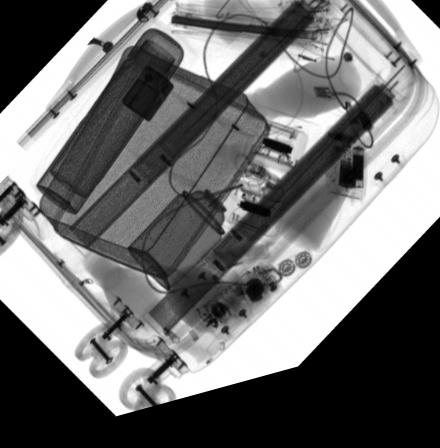Lighter: (121, 73, 173, 129)
Sprayer: (126, 177, 248, 299)
